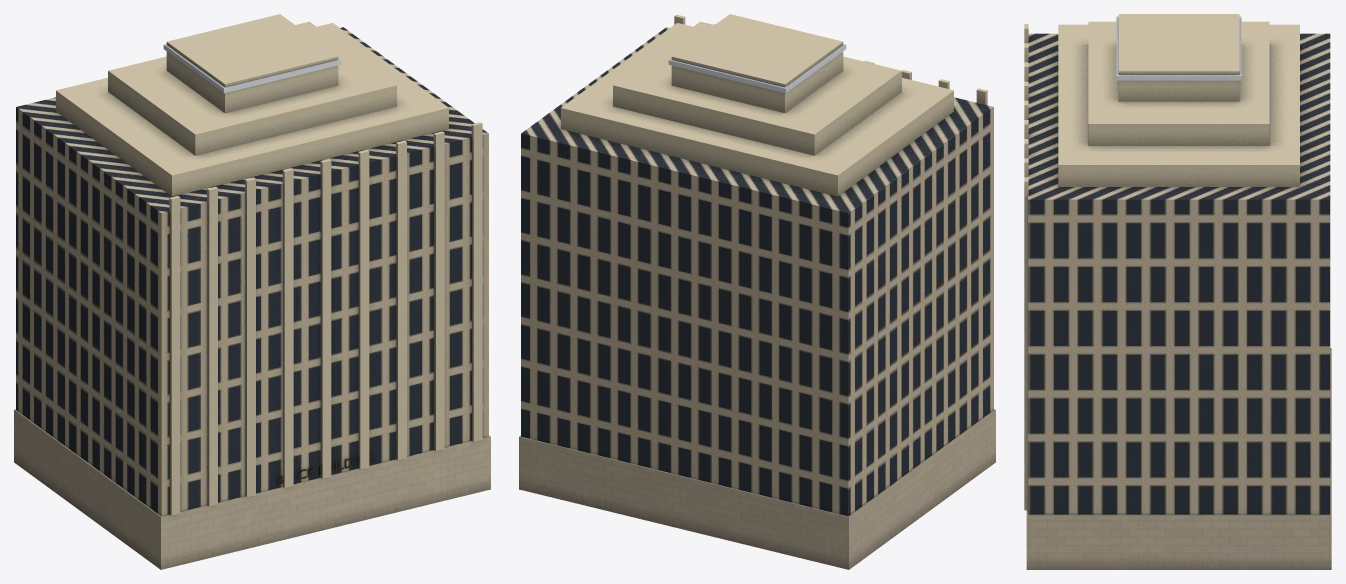
Rendered from black_building.glb.
3 views of the same model, side by side, from view 1: azimuth 30°, elevation 25°; view 2: azimuth 150°, elevation 25°; view 3: azimuth 270°, elevation 25° (orthographic). The views are drawn at different scales.
Parts seen in each view (by area): view 1: black_building; view 2: black_building; view 3: black_building.
Part boxes in pixels (x1,y1,x2,y2): black_building: (14, 14, 490, 569); black_building: (519, 14, 995, 569); black_building: (1024, 14, 1331, 569).
Bounding box in the file's own units: 26.2 × 32.4 × 20.35.
1 material, 1 textured.
